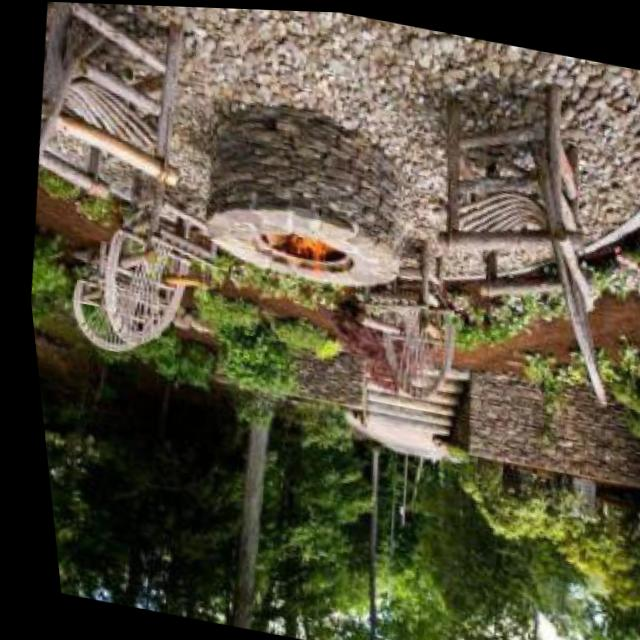Fire: (271, 221, 332, 291)
